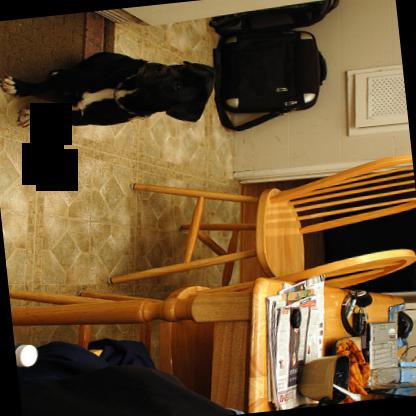backpack: (16, 337, 240, 416), (210, 0, 341, 35)
handbag: (209, 29, 325, 131)
